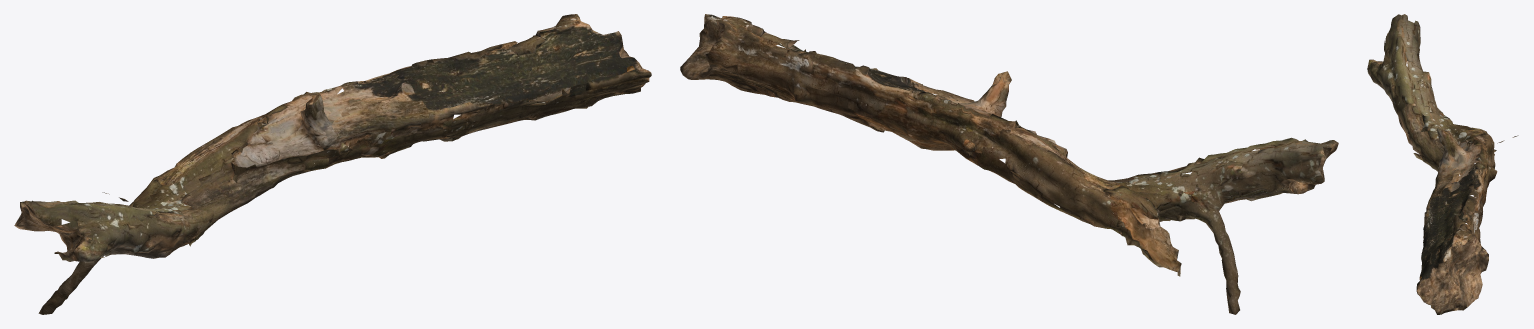
The model's file is log.glb.
3 renders of one model, left to right at view 1: azimuth 30°, elevation 25°; view 2: azimuth 150°, elevation 25°; view 3: azimuth 270°, elevation 25°, orthographic. The views are drawn at different scales.
Parts seen in each view (by area): view 1: dead_tree_trunk_02; view 2: dead_tree_trunk_02; view 3: dead_tree_trunk_02.
Part boxes in pixels (x1,y1,x2,y2): dead_tree_trunk_02: [14, 14, 651, 314]; dead_tree_trunk_02: [680, 14, 1338, 314]; dead_tree_trunk_02: [1367, 14, 1518, 314].
Bounding box in the file's own units: 4.02 × 1.03 × 1.02.
1 material, 1 textured.
